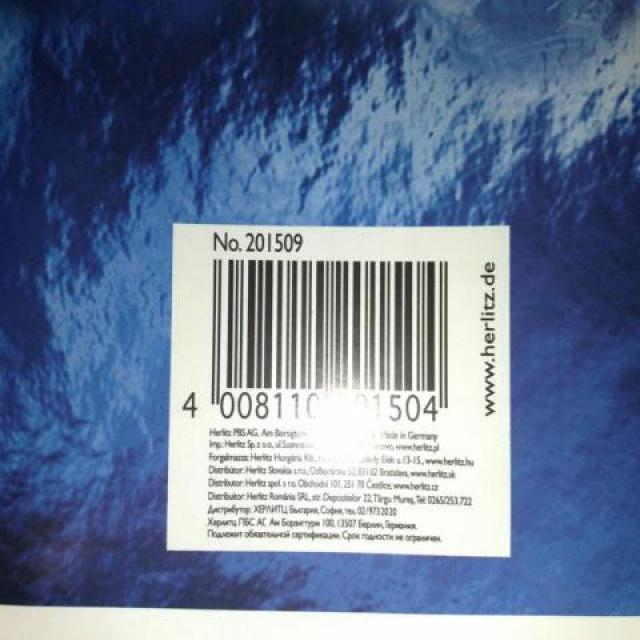Barcode: (175, 252, 469, 427)
